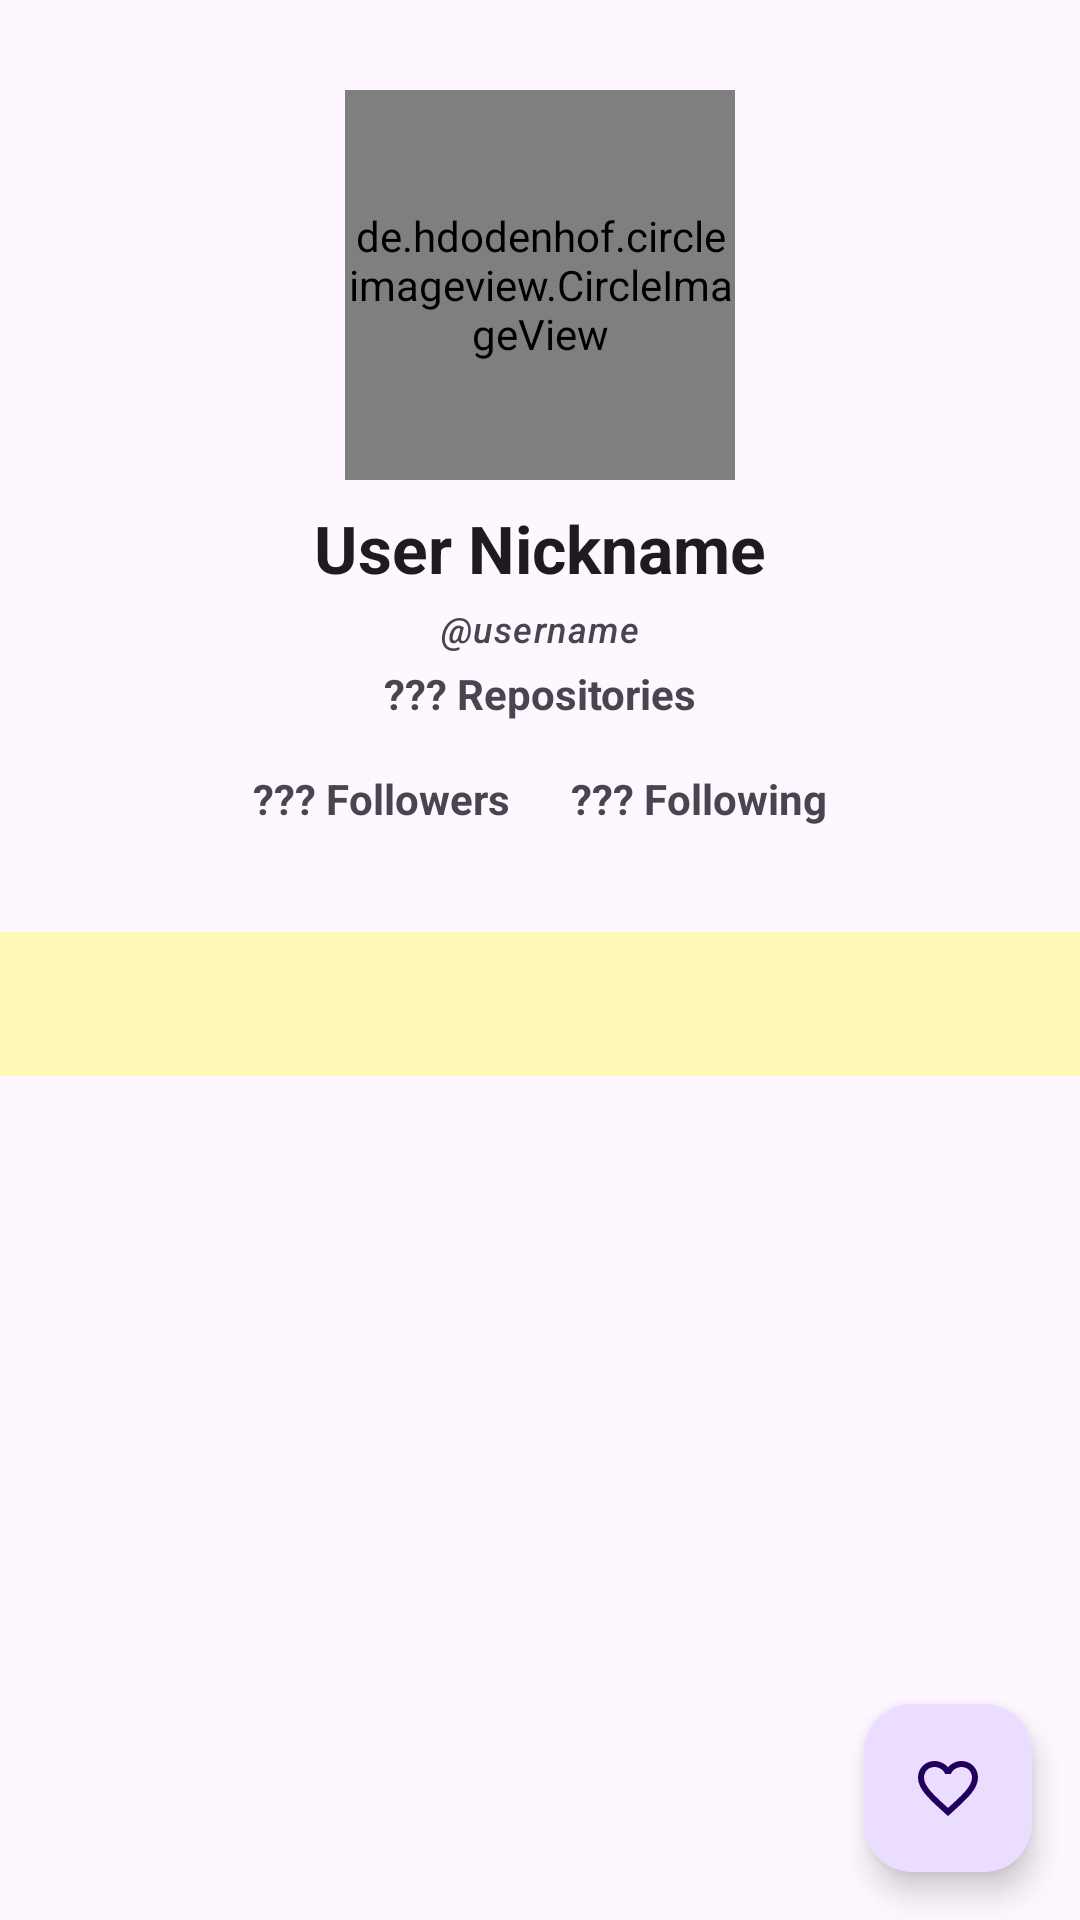

Icon bounding boxes for this 1080×1920 phone screenshot, format {"left": x1, "top": y1, "right": x2, "bottom": y2}:
Favorite: {"left": 864, "top": 1704, "right": 1032, "bottom": 1872}
